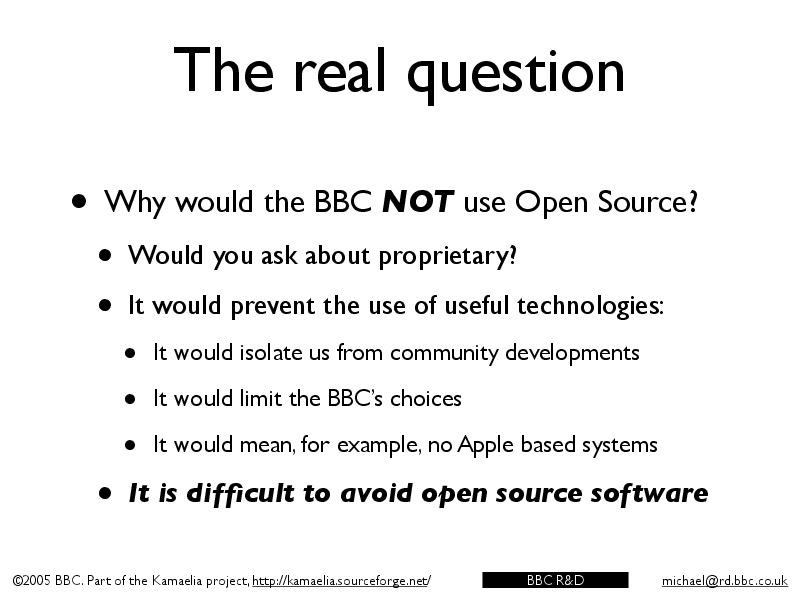subtitle: (91, 169, 750, 524)
title: (170, 37, 627, 116)
